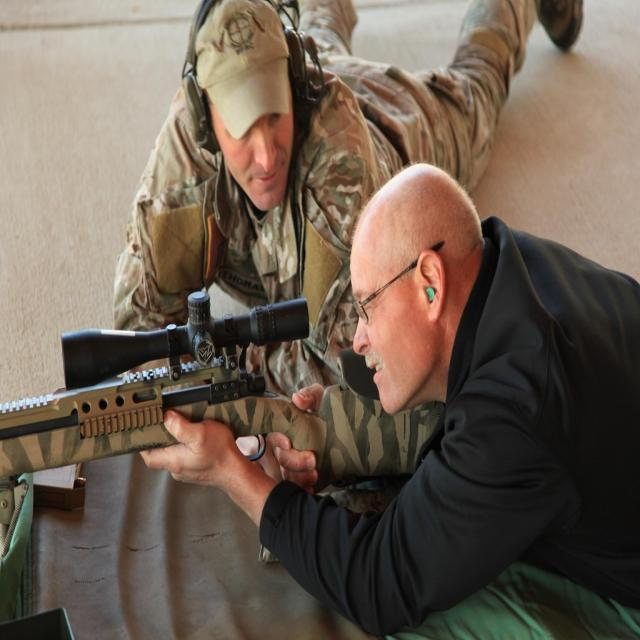weapon: (0, 288, 448, 566)
